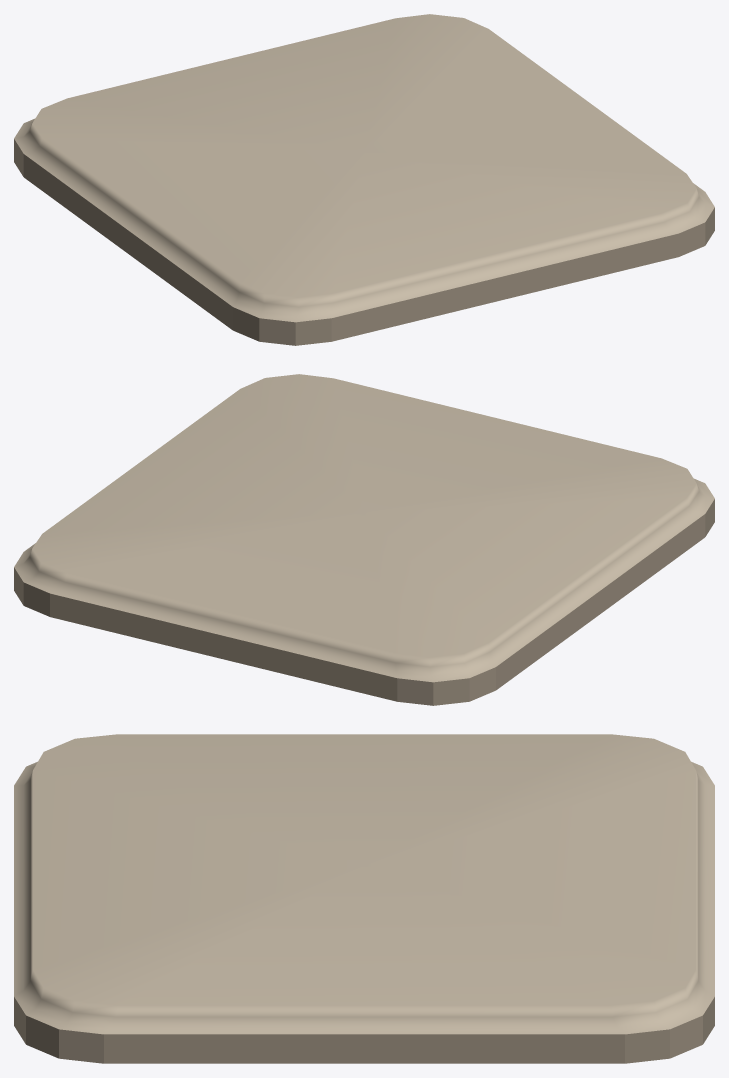
Rendered from gf_paver_00.glb.
The picture shows the model from 3 angles, top to bottom: view 1: azimuth 30°, elevation 25°; view 2: azimuth 150°, elevation 25°; view 3: azimuth 270°, elevation 25°; orthographic projection. The views are drawn at different scales.
Visible parts, largest first — view 1: gf_paver_00; view 2: gf_paver_00; view 3: gf_paver_00.
Part boxes in pixels (box(x1,y1,x2,y2)): gf_paver_00: box(14, 14, 714, 345); gf_paver_00: box(14, 374, 714, 705); gf_paver_00: box(14, 734, 714, 1063).
Bounding box in the file's own units: 0.6331 × 0.0567 × 0.6539.
